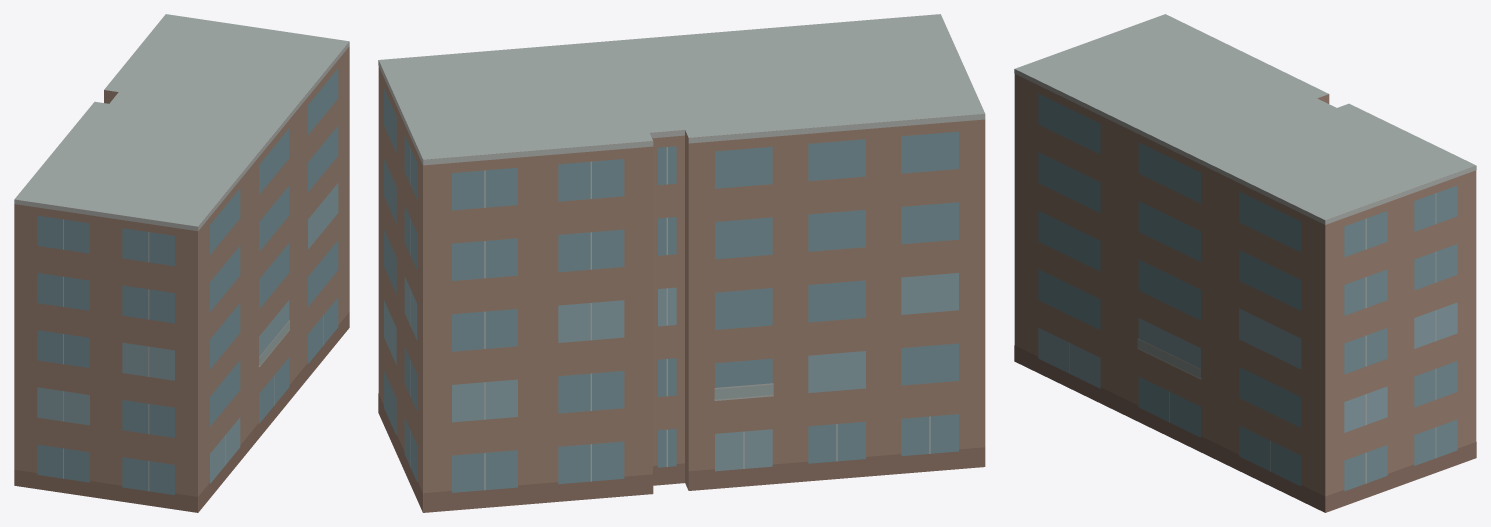
File: survey-upis-32954333.glb
3 views of the same model, side by side, from view 1: azimuth 30°, elevation 25°; view 2: azimuth 150°, elevation 25°; view 3: azimuth 270°, elevation 25° (orthographic). The views are drawn at different scales.
Parts seen in each view (by area): view 1: survey-upis-32954333.tmp; view 2: survey-upis-32954333.tmp; view 3: survey-upis-32954333.tmp.
Part boxes in pixels (x1=…): survey-upis-32954333.tmp: x1=14, y1=14, x2=349, y2=512; survey-upis-32954333.tmp: x1=378, y1=14, x2=985, y2=512; survey-upis-32954333.tmp: x1=1014, y1=14, x2=1476, y2=512.
Size of the model in its own units: 23.07 by 15.25 by 21.83.
